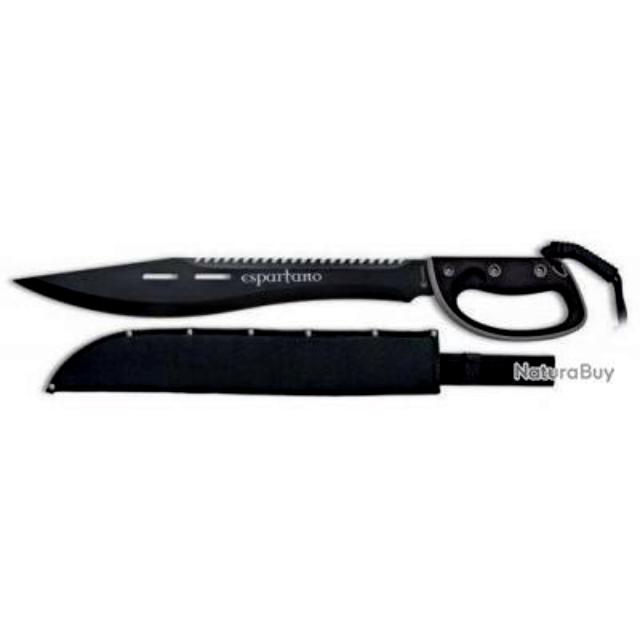long knife: (13, 237, 632, 356)
